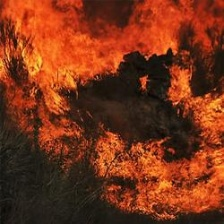fire: (2, 1, 224, 216)
